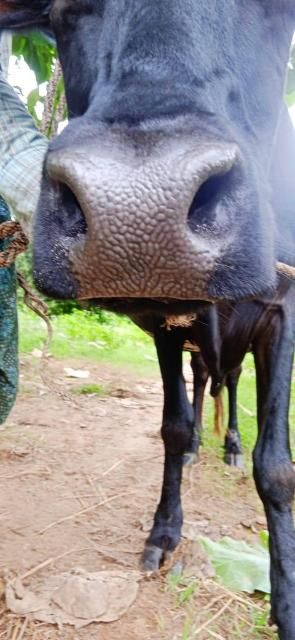Muzzle: (44, 142, 228, 298)
